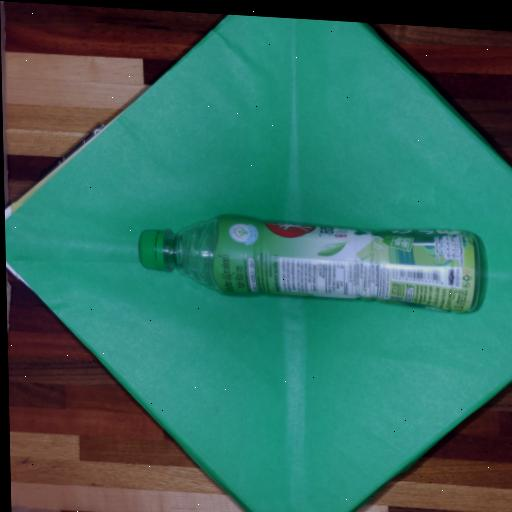bottle: (139, 216, 479, 312)
